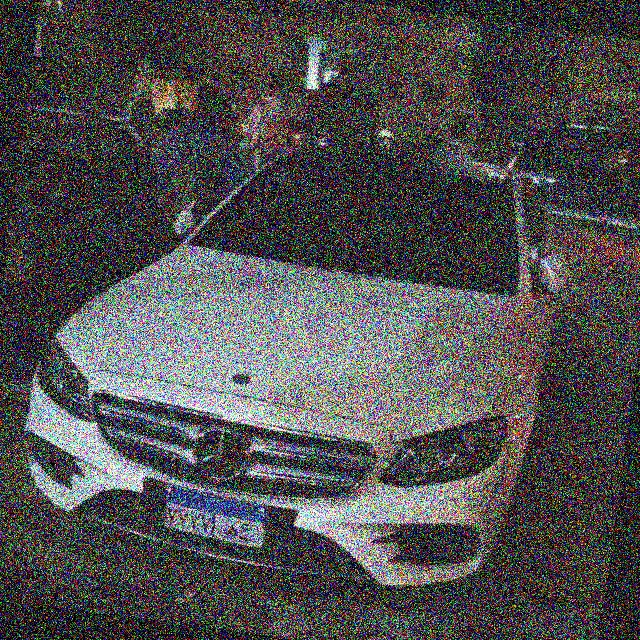License Plate: (152, 482, 275, 551)
